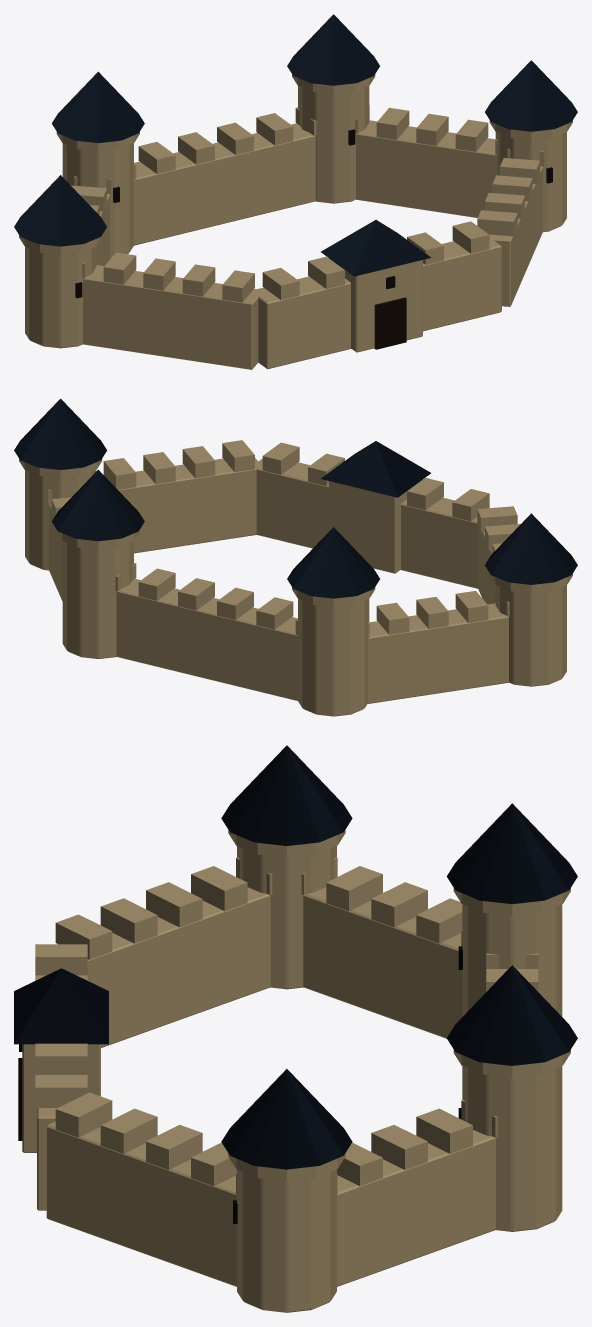
File: walls_1.obj
3 views of the same model, one above another, from view 1: azimuth 30°, elevation 25°; view 2: azimuth 150°, elevation 25°; view 3: azimuth 270°, elevation 25° (orthographic). The views are drawn at different scales.
Parts seen in each view (by area): view 1: core_stone, core_team, core_wood_dark, core_window; view 2: core_stone, core_team; view 3: core_stone, core_team.
Boxes of the visible parts, x1=… form: core_stone: x1=19, y1=74, x2=572, y2=369; core_team: x1=14, y1=14, x2=577, y2=276; core_wood_dark: x1=374, y1=297, x2=406, y2=349; core_window: x1=75, y1=129, x2=552, y2=298; core_stone: x1=19, y1=440, x2=572, y2=716; core_team: x1=14, y1=398, x2=577, y2=598; core_stone: x1=22, y1=830, x2=570, y2=1312; core_team: x1=14, y1=745, x2=577, y2=1169.
Size of the model in its own units: 1.64 by 0.4972 by 1.03.
